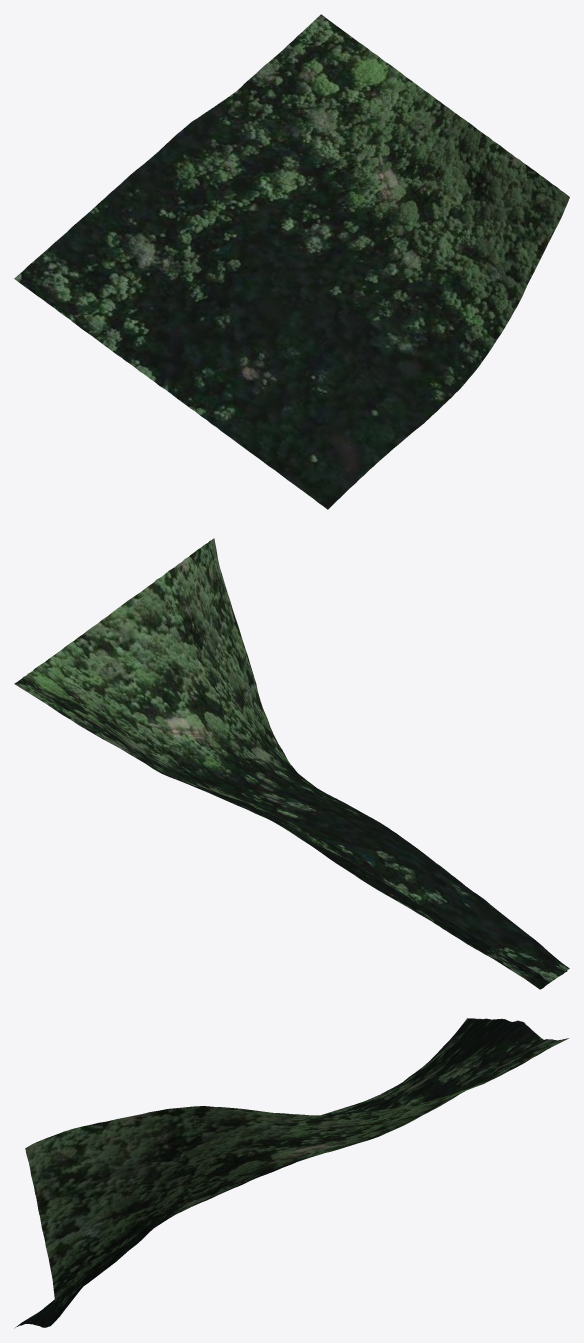
The picture shows the model from 3 angles, top to bottom: view 1: azimuth 30°, elevation 25°; view 2: azimuth 150°, elevation 25°; view 3: azimuth 270°, elevation 25°; orthographic projection. The views are drawn at different scales.
Bounding box in the file's own units: 327 × 238 × 284.
Materials: 1 (1 with a texture image).
